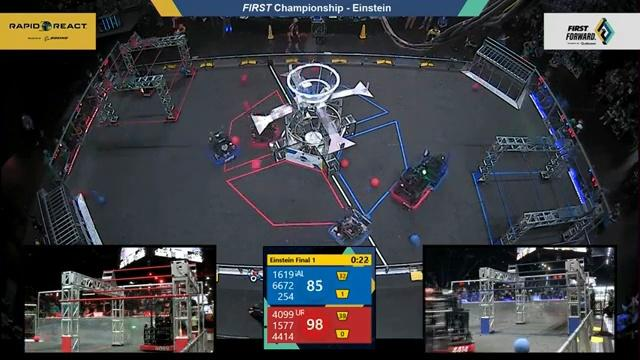robot: (424, 288, 476, 353), (327, 202, 382, 247), (389, 165, 430, 212), (242, 107, 283, 150), (204, 121, 243, 166), (413, 147, 454, 189), (140, 304, 173, 353), (131, 59, 163, 103)
